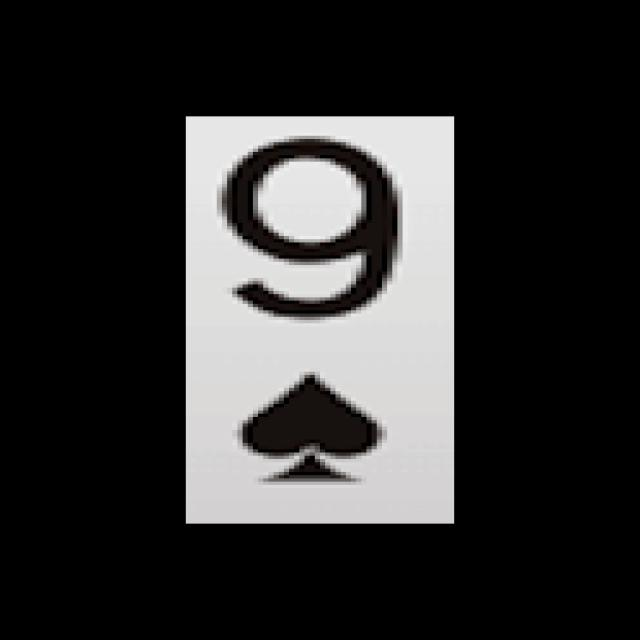9S: (204, 125, 413, 498)
